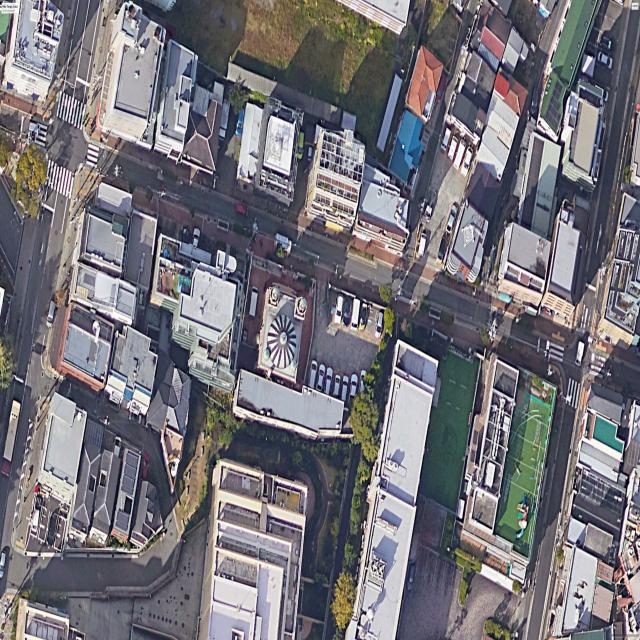Home: (146, 352, 191, 492), (472, 3, 527, 115), (179, 85, 222, 176), (71, 436, 101, 541), (89, 449, 120, 547), (406, 46, 443, 124), (111, 447, 141, 542), (389, 110, 423, 183), (130, 480, 162, 547), (462, 52, 496, 111), (486, 91, 518, 149), (448, 93, 483, 145), (478, 127, 509, 181)
mosque: (258, 285, 307, 383)
